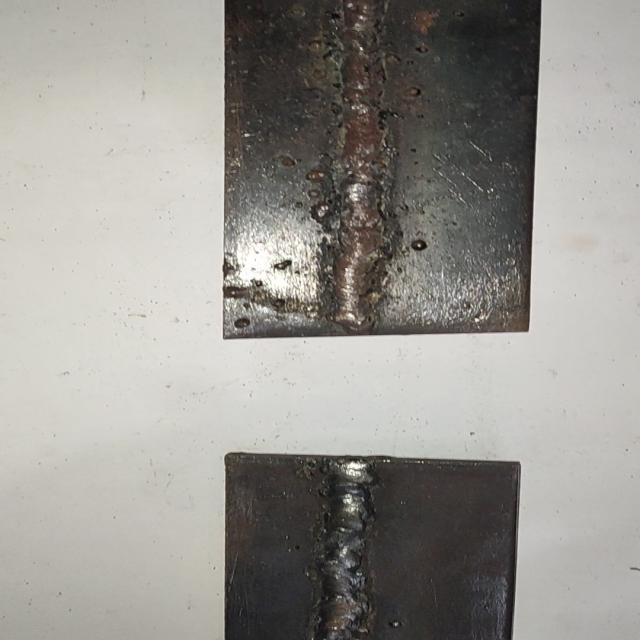Defect: (312, 0, 406, 236)
Welding Line: (324, 0, 394, 327), (316, 458, 377, 640)
Workpiece: (217, 0, 550, 344), (220, 449, 530, 640)
